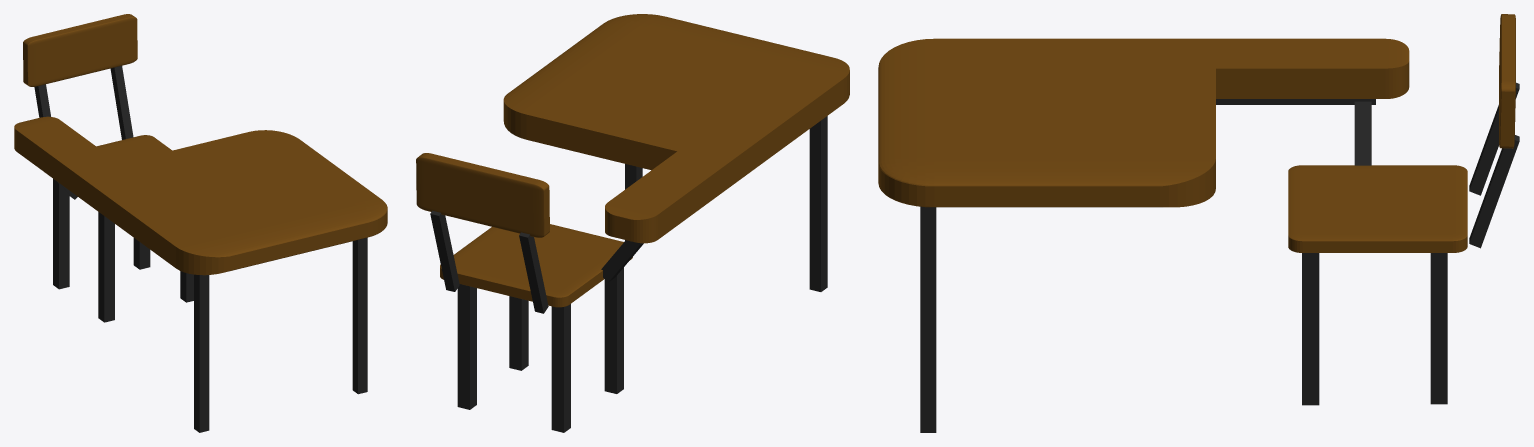
The model's file is Desk.fbx.
3 views of the same model, side by side, from view 1: azimuth 30°, elevation 25°; view 2: azimuth 150°, elevation 25°; view 3: azimuth 270°, elevation 25° (orthographic). The views are drawn at different scales.
Parts seen in each view (by area): view 1: Cube, Cube.013, Cube.018, Desk, Chair, Cube.021, Cube.010, Cube.016, Cube.020, Cube.014, Cube.023; view 2: Cube, Cube.010, Cube.013, Cube.018, Cube.021, Cube.020, Chair, Cube.023, Cube.016, Cube.014, Cube.017; view 3: Cube, Cube.010, Desk, Cube.023, Cube.020, Cube.013, Cube.016, Cube.017, Cube.014, Cube.015.
Boxes of the visible parts, <box> form: Cube: <box>14,116,387,275</box>; Cube.013: <box>23,14,137,86</box>; Cube.018: <box>194,274,209,432</box>; Desk: <box>352,237,367,394</box>; Chair: <box>98,212,114,322</box>; Cube.021: <box>53,179,69,289</box>; Cube.010: <box>96,135,171,163</box>; Cube.016: <box>110,65,133,139</box>; Cube.020: <box>133,238,150,269</box>; Cube.014: <box>34,84,50,117</box>; Cube.023: <box>180,271,193,302</box>; Cube: <box>503,14,849,243</box>; Cube.010: <box>440,224,632,307</box>; Cube.013: <box>416,153,549,237</box>; Cube.018: <box>809,116,827,291</box>; Cube.021: <box>551,304,570,432</box>; Cube.020: <box>457,284,476,409</box>; Chair: <box>604,267,623,393</box>; Cube.023: <box>509,296,528,370</box>; Cube.016: <box>430,210,459,291</box>; Cube.014: <box>519,232,548,313</box>; Cube.017: <box>601,240,643,282</box>; Cube: <box>878,38,1409,207</box>; Cube.010: <box>1288,165,1467,252</box>; Desk: <box>920,206,936,432</box>; Cube.023: <box>1302,253,1319,405</box>; Cube.020: <box>1430,253,1447,404</box>; Cube.013: <box>1499,14,1515,148</box>; Cube.016: <box>1469,135,1519,248</box>; Cube.017: <box>1354,101,1371,165</box>; Cube.014: <box>1469,82,1519,195</box>; Cube.015: <box>1216,99,1375,104</box>.
Bounding box in the file's own units: 157 × 169 × 299.
